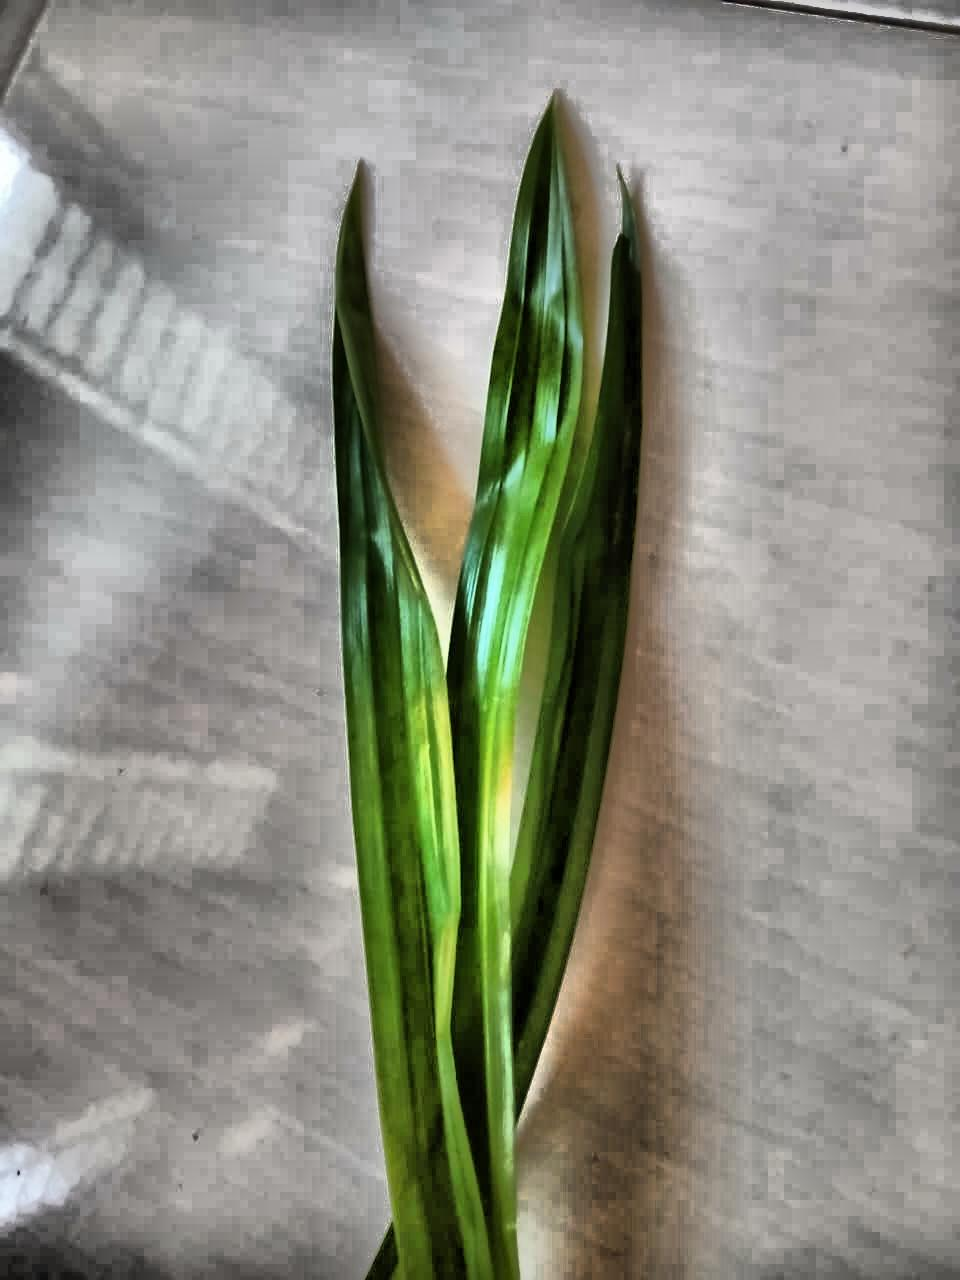daun pandan: (332, 100, 643, 1279)
